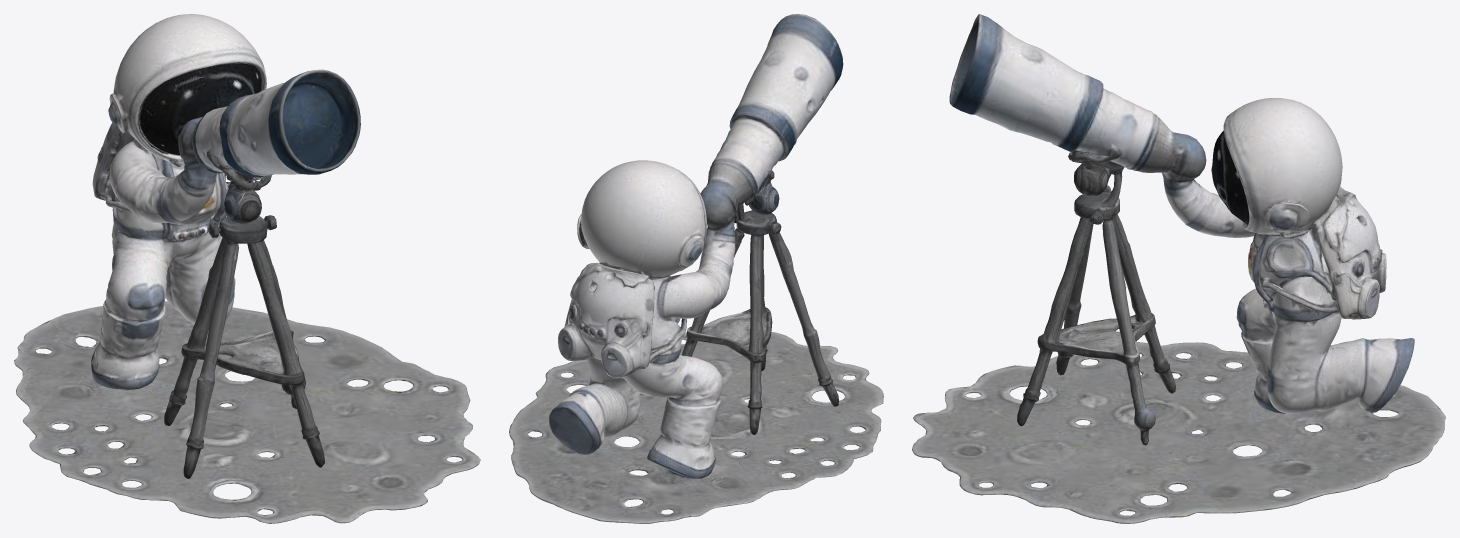
3 views of the same model, side by side, from view 1: azimuth 30°, elevation 25°; view 2: azimuth 150°, elevation 25°; view 3: azimuth 270°, elevation 25° (orthographic). The views are drawn at different scales.
Bounding box in the file's own units: 1.52 × 1.58 × 1.9.
1 material, 1 textured.
